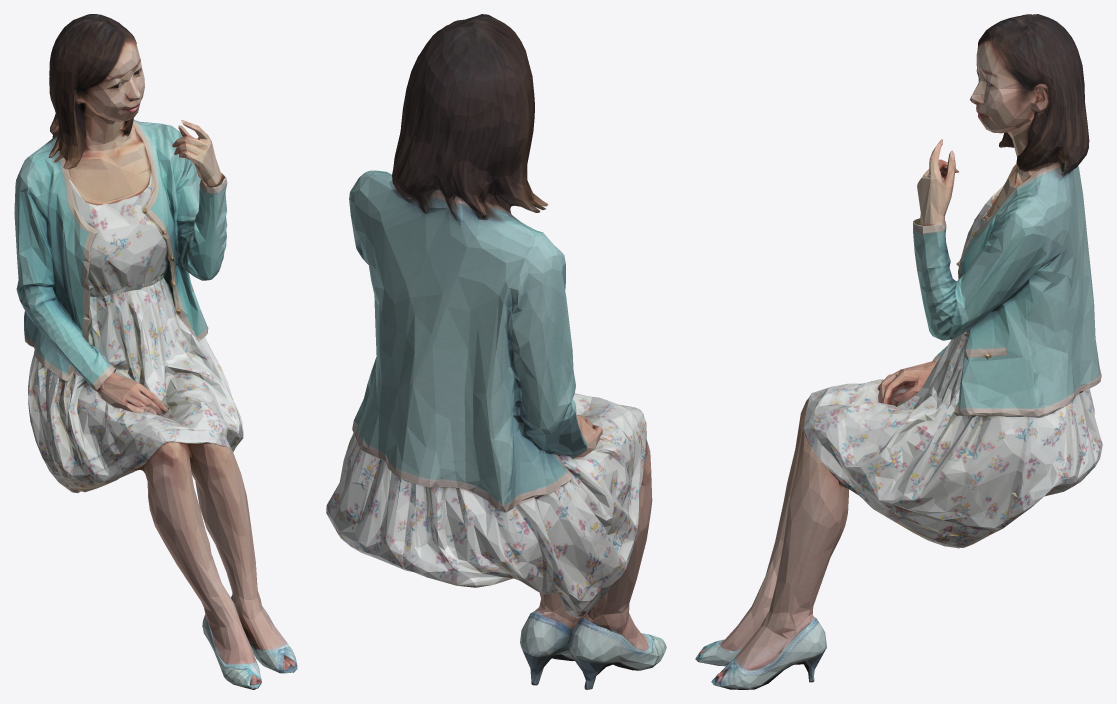
Rendered from attendant-woman.glb.
The picture shows the model from 3 angles, left to right: view 1: azimuth 30°, elevation 25°; view 2: azimuth 150°, elevation 25°; view 3: azimuth 270°, elevation 25°; orthographic projection. The views are drawn at different scales.
Visible parts, largest first — view 1: 091_W_Aya_100K_01; view 2: 091_W_Aya_100K_01; view 3: 091_W_Aya_100K_01.
Part boxes in pixels (x1,y1,x2,y2): 091_W_Aya_100K_01: (14, 14, 297, 689); 091_W_Aya_100K_01: (326, 14, 666, 689); 091_W_Aya_100K_01: (695, 14, 1102, 689).
Size of the model in its own units: 4.23 by 13.17 by 7.66.
1 material, 1 textured.
